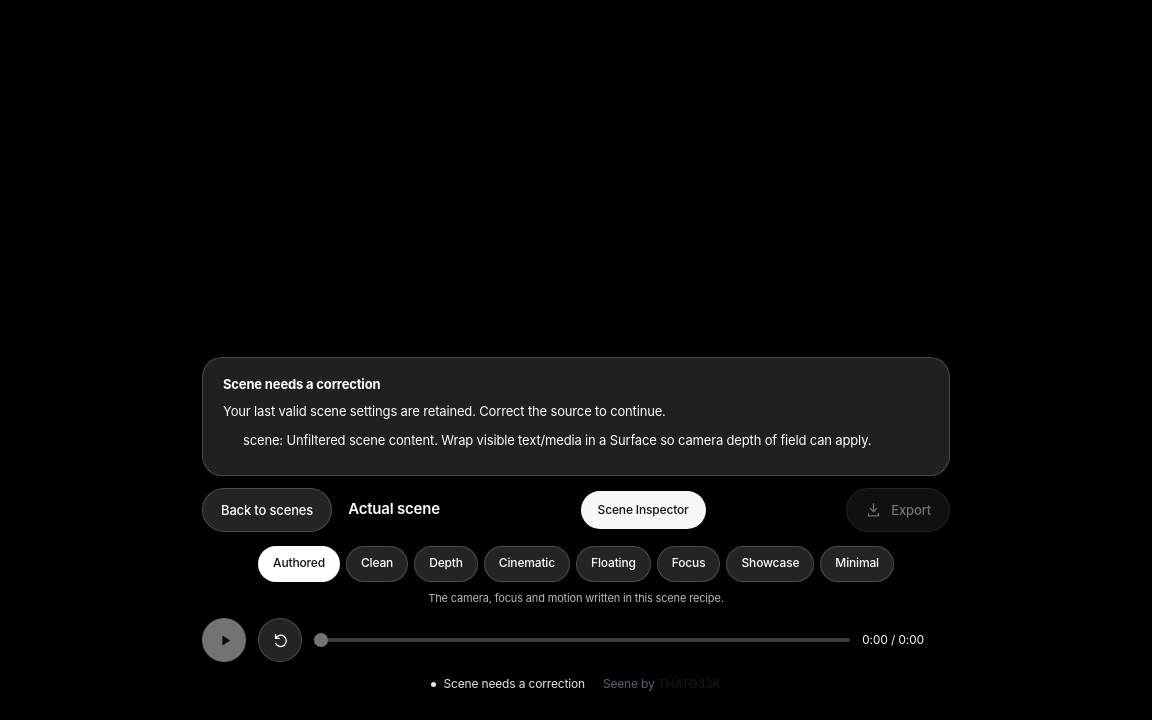
opens a scene with the real host application as its rendered child
Click the link "Back to scenes". click: (267, 510)
box: top-left (202, 488), bottom-right (332, 532)
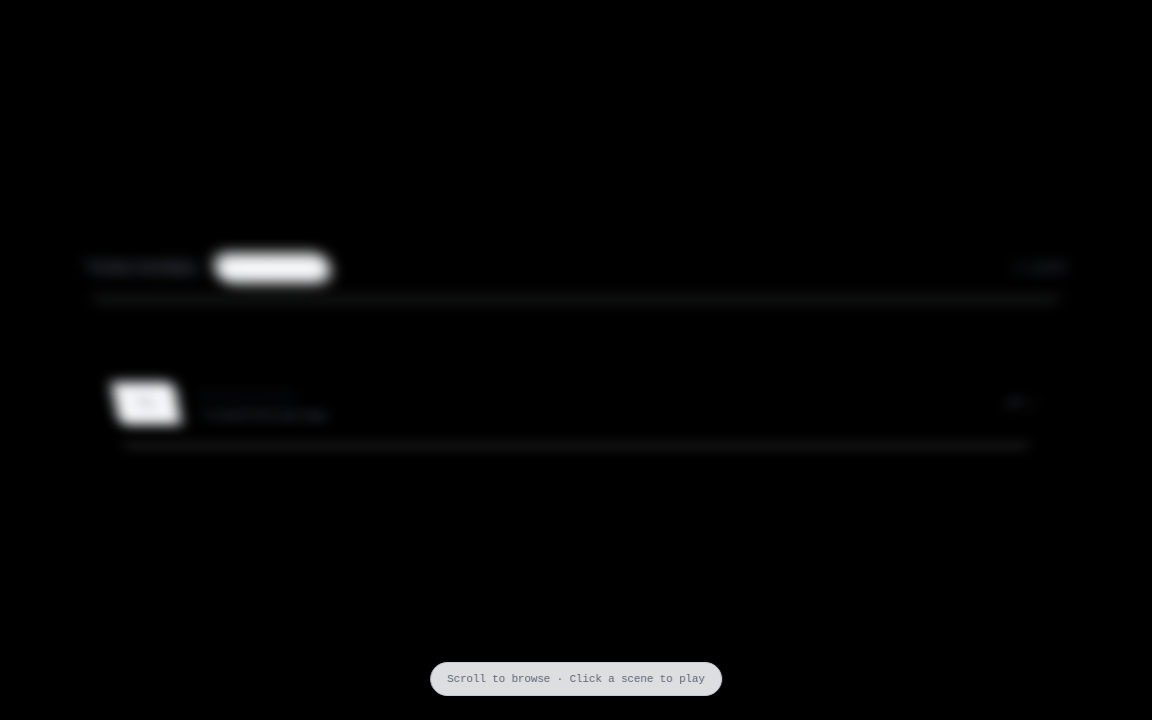
Expected: the link "01 Actual scene A scene from your app 0s ↗" is shown, top-left (106, 360), bottom-right (1046, 446)
